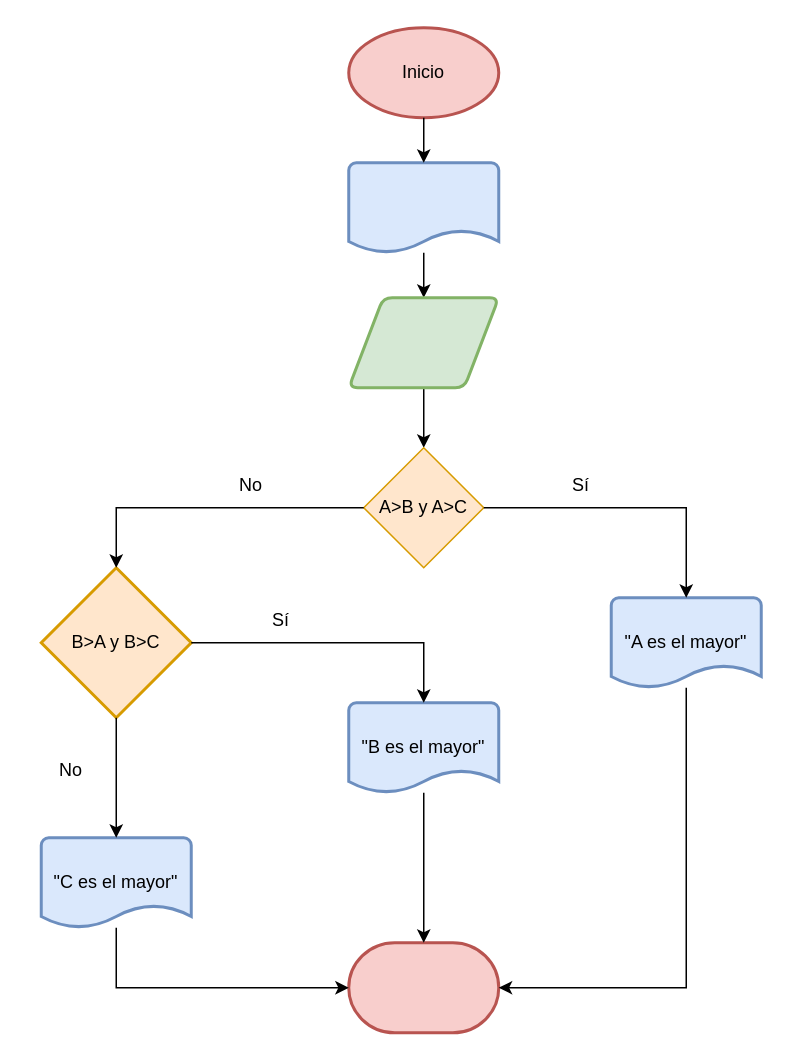
The diagram is 788 pixels wide and 1059 high, and some of its shapes have lost their labels. The centre of each missing label's shape, as x and y in pixels:
"Introduzca tres valores distintos.": the point at 423,207
A, B, C: the point at 423,342
Fin: the point at 423,987
